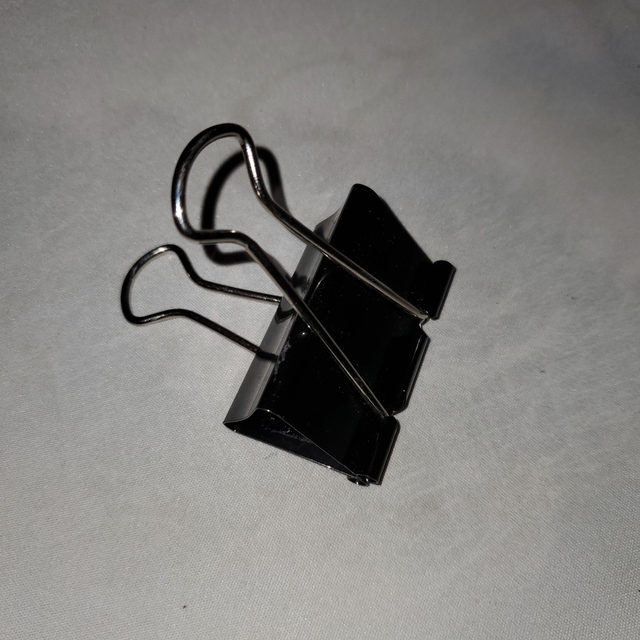clip: (113, 120, 460, 498)
